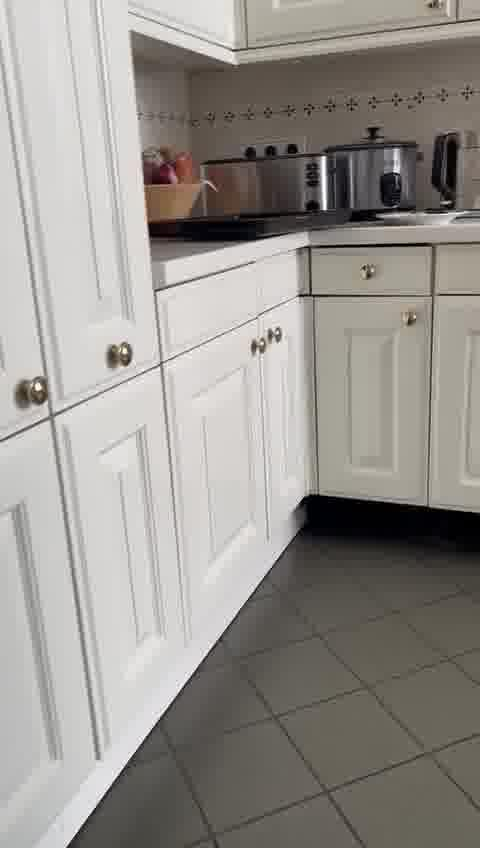cabinet_door: (45, 0, 145, 386), (178, 329, 270, 624), (321, 300, 426, 482), (0, 121, 50, 426), (265, 296, 313, 509), (308, 250, 430, 290)
handle: (96, 325, 138, 374), (14, 369, 53, 413), (265, 325, 286, 348), (253, 332, 267, 363), (401, 310, 419, 333), (358, 262, 376, 282)
